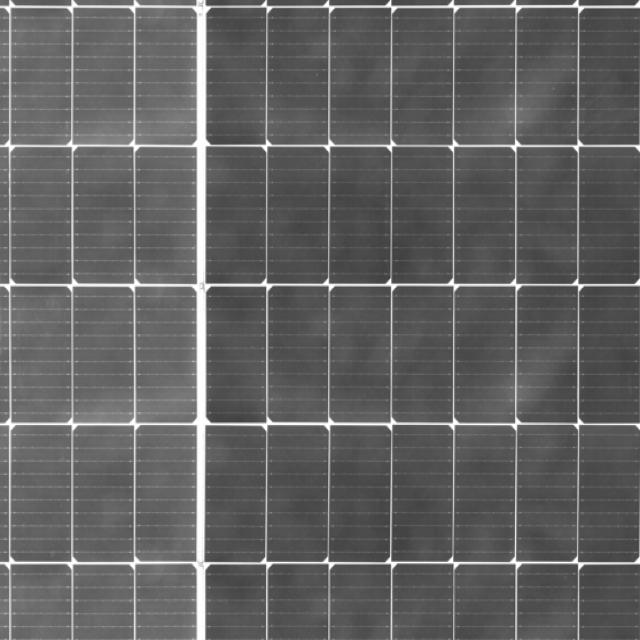CORRECT: (40, 51, 600, 599), (149, 132, 524, 498)
